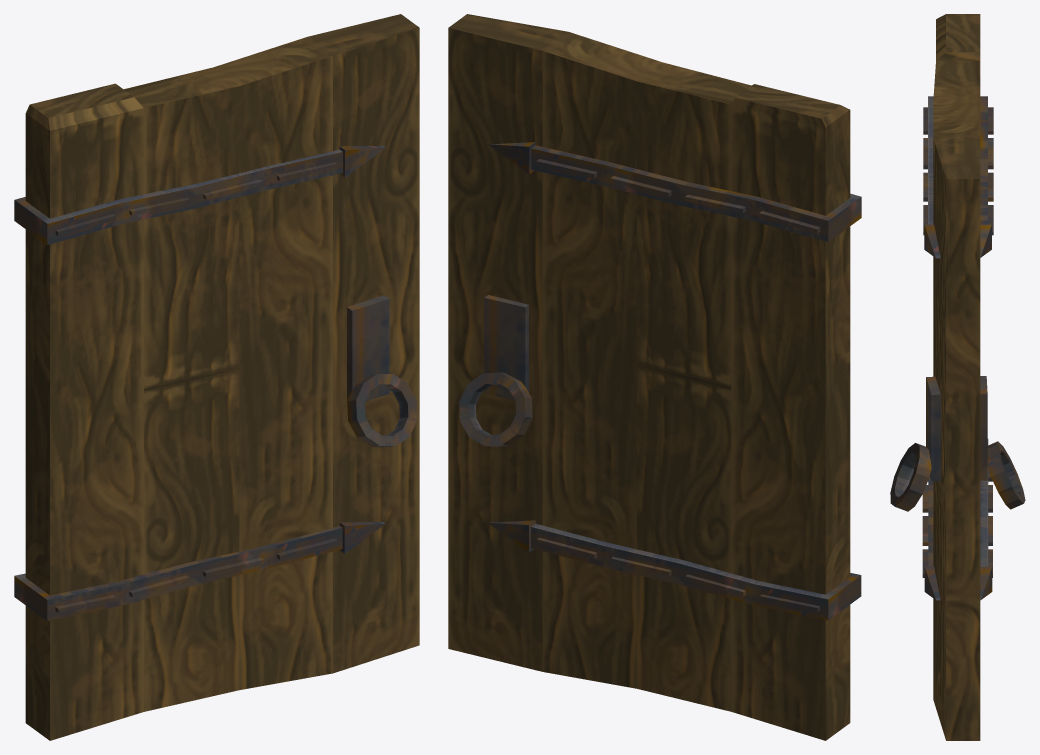
The picture shows the model from 3 angles, left to right: view 1: azimuth 30°, elevation 25°; view 2: azimuth 150°, elevation 25°; view 3: azimuth 270°, elevation 25°; orthographic projection. The views are drawn at different scales.
Parts seen in each view (by area): view 1: WD; view 2: WD; view 3: WD.
Part boxes in pixels (x1,y1,x2,y2): WD: (14, 14, 419, 740); WD: (448, 14, 861, 740); WD: (890, 14, 1025, 740).
Bounding box in the file's own units: 2588 × 3996 × 870.
